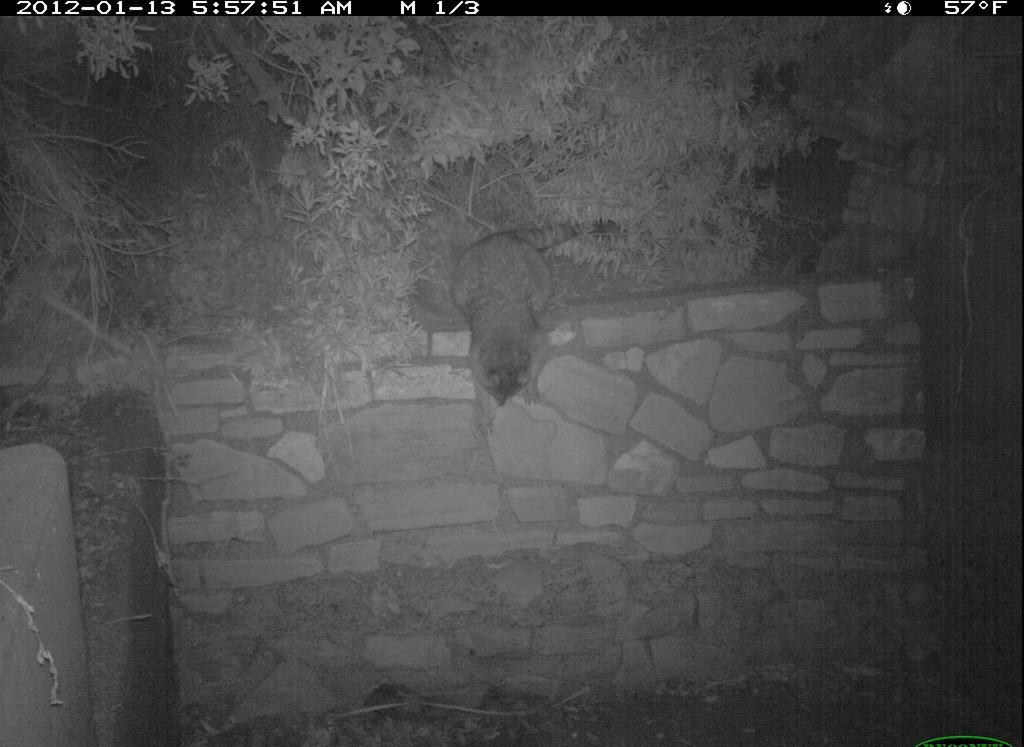raccoon: (442, 201, 601, 437)
